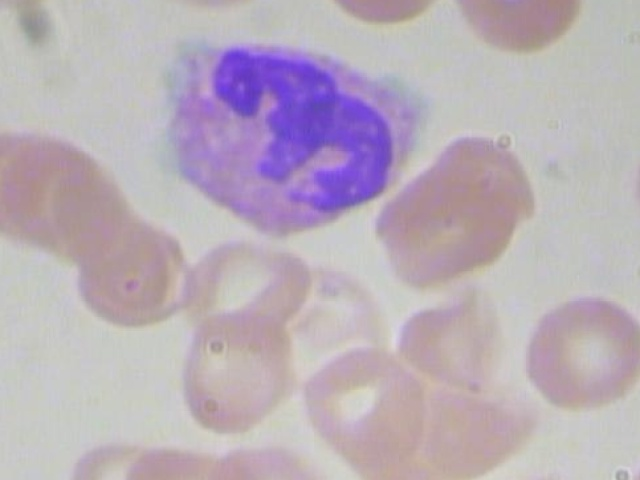RBC: (371, 128, 546, 294), (295, 336, 428, 469), (168, 308, 301, 440), (517, 283, 640, 413), (71, 212, 203, 325), (442, 0, 591, 62), (209, 434, 341, 480), (118, 434, 250, 480), (313, 0, 462, 31), (135, 0, 288, 21), (0, 0, 129, 12), (633, 132, 640, 244), (627, 433, 640, 480)
WBC: (150, 22, 458, 243)
